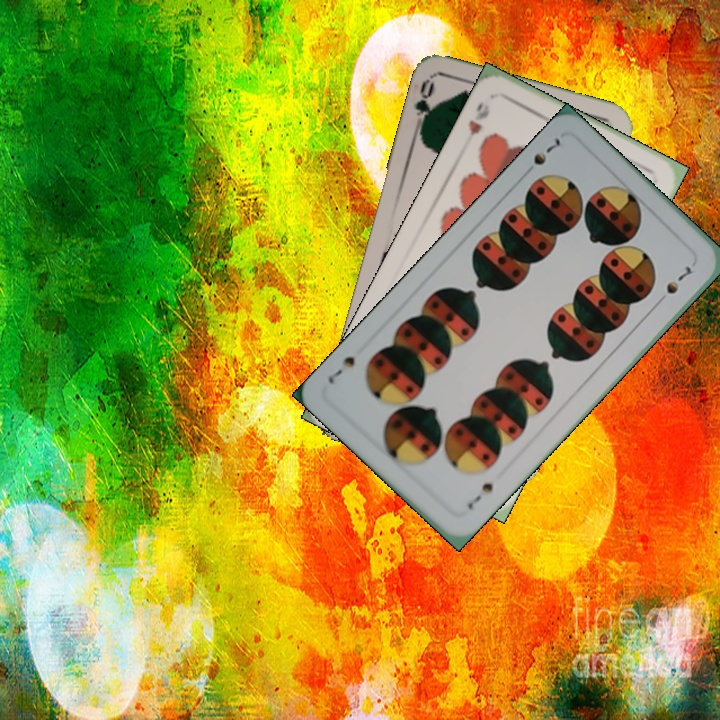GO: (410, 75, 439, 135)
H9: (464, 98, 493, 139)
S7: (519, 133, 563, 179), (463, 478, 496, 513)
